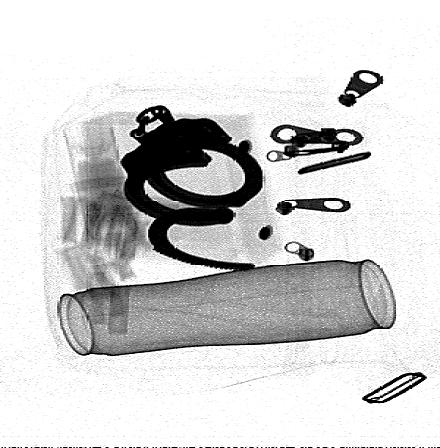HandCuffs: (120, 105, 262, 271)
